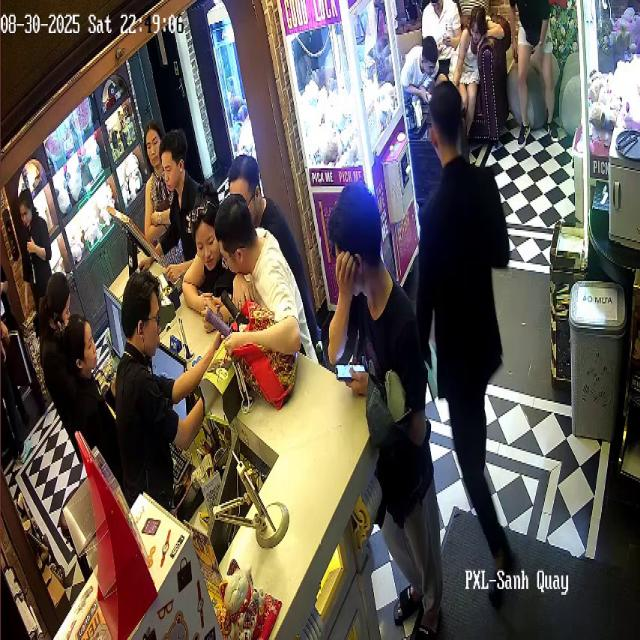khach: (331, 172, 427, 598), (220, 216, 311, 347), (509, 7, 562, 156), (230, 162, 293, 245), (186, 207, 237, 309), (135, 129, 176, 249), (460, 11, 494, 134), (422, 0, 466, 69), (404, 34, 442, 99)
nhan vien: (440, 92, 524, 581), (115, 272, 210, 521), (17, 193, 71, 297), (162, 139, 212, 234), (63, 317, 104, 419), (39, 258, 69, 354)
